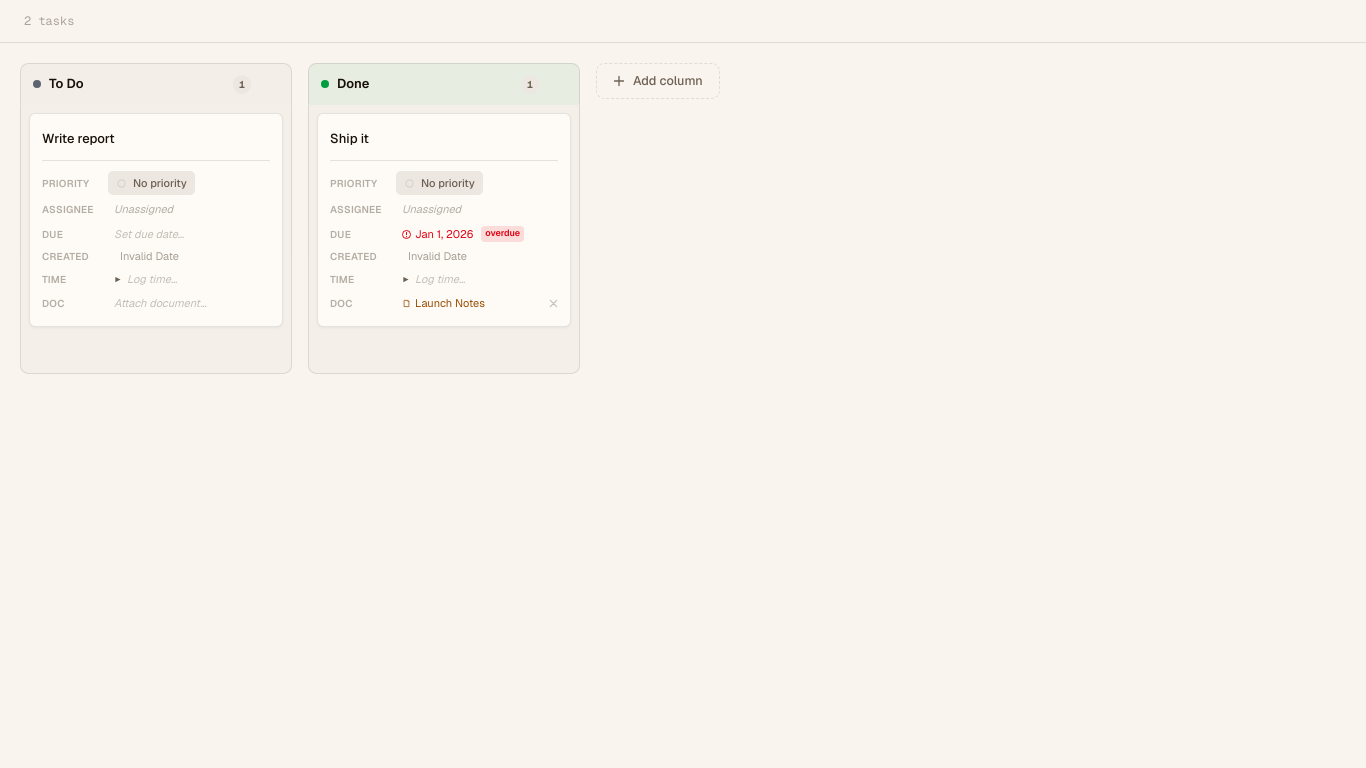
KanbanView › reverts task deletion when the persist fails
Click the button "Write report" at (156, 139), box [42,130,270,148]
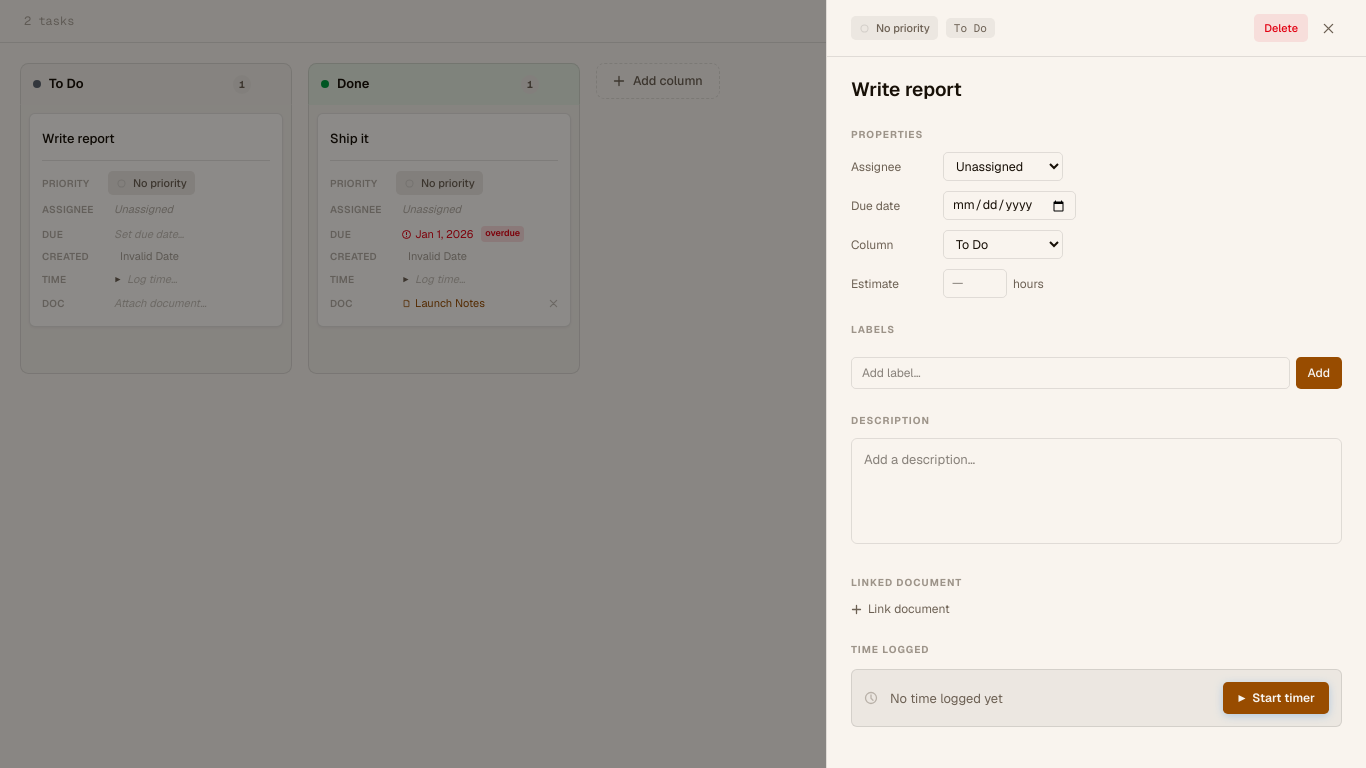
Click the button "Delete" at (1281, 28), box [1254,14,1308,42]
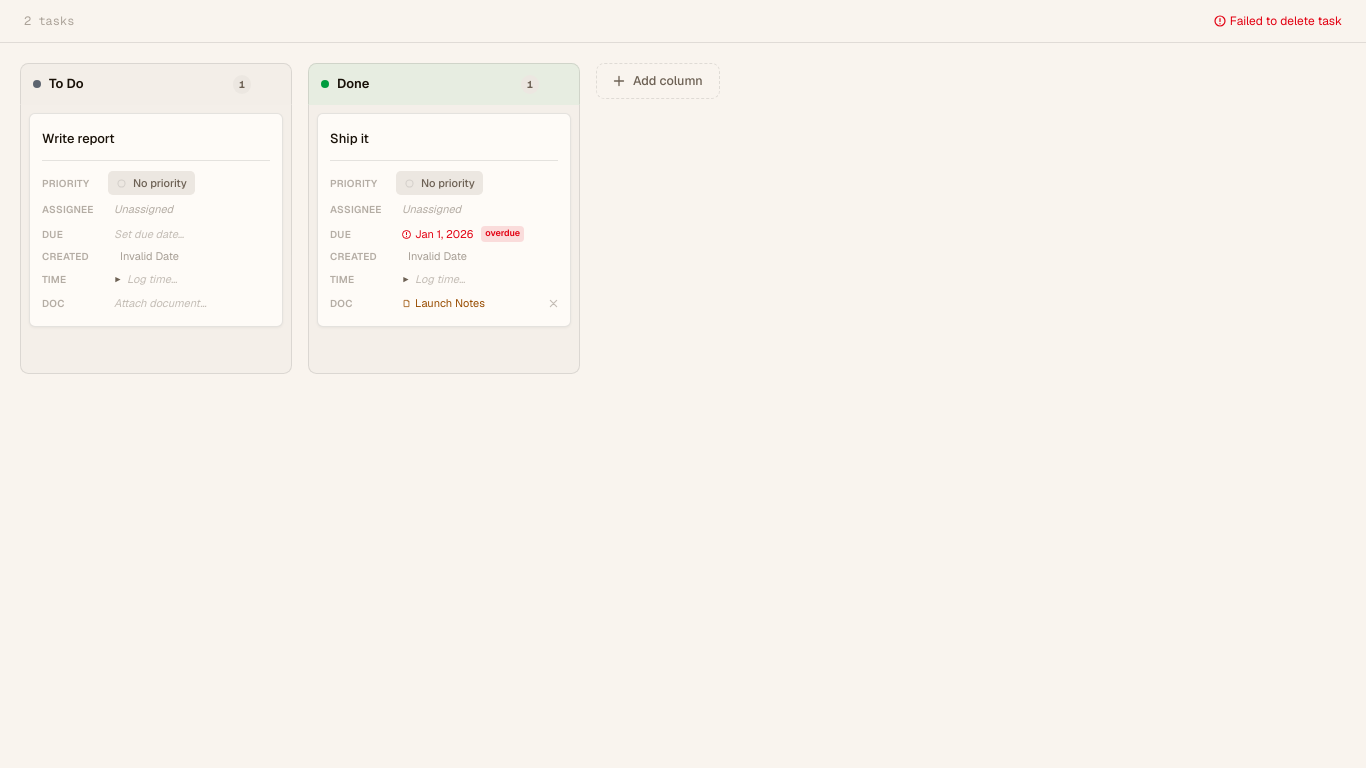
expect the text "Failed to delete task" is shown: met, box [1214,12,1342,30]
